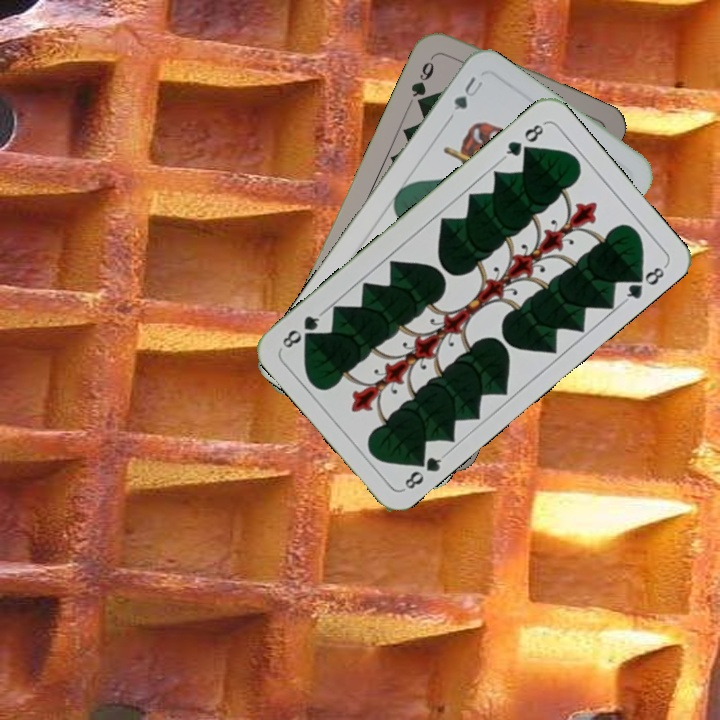G8: (399, 448, 449, 493), (499, 119, 549, 162)
G9: (407, 51, 438, 110)
GU: (449, 72, 486, 113)
